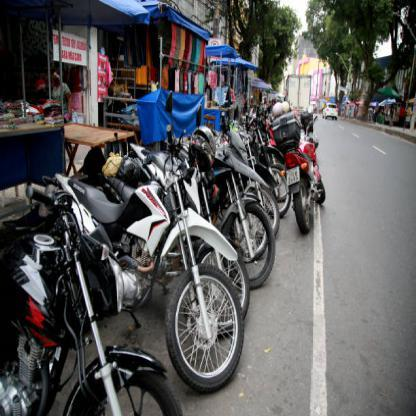Motorcycle: (1, 176, 185, 416), (81, 147, 248, 387)
